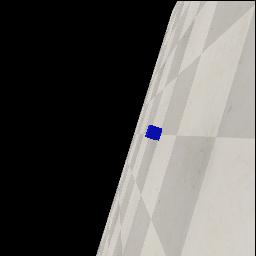box: (145, 125, 162, 141)
